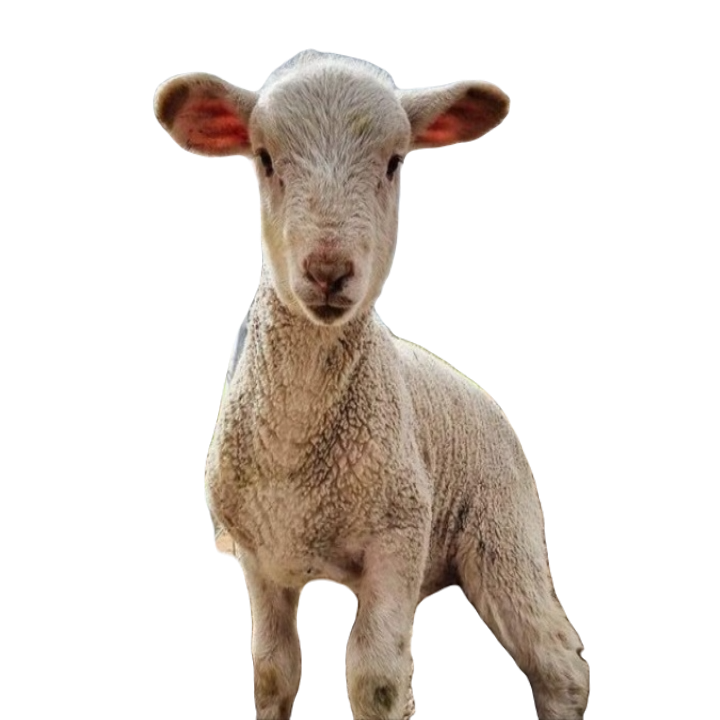Sheep: (148, 45, 594, 719)
